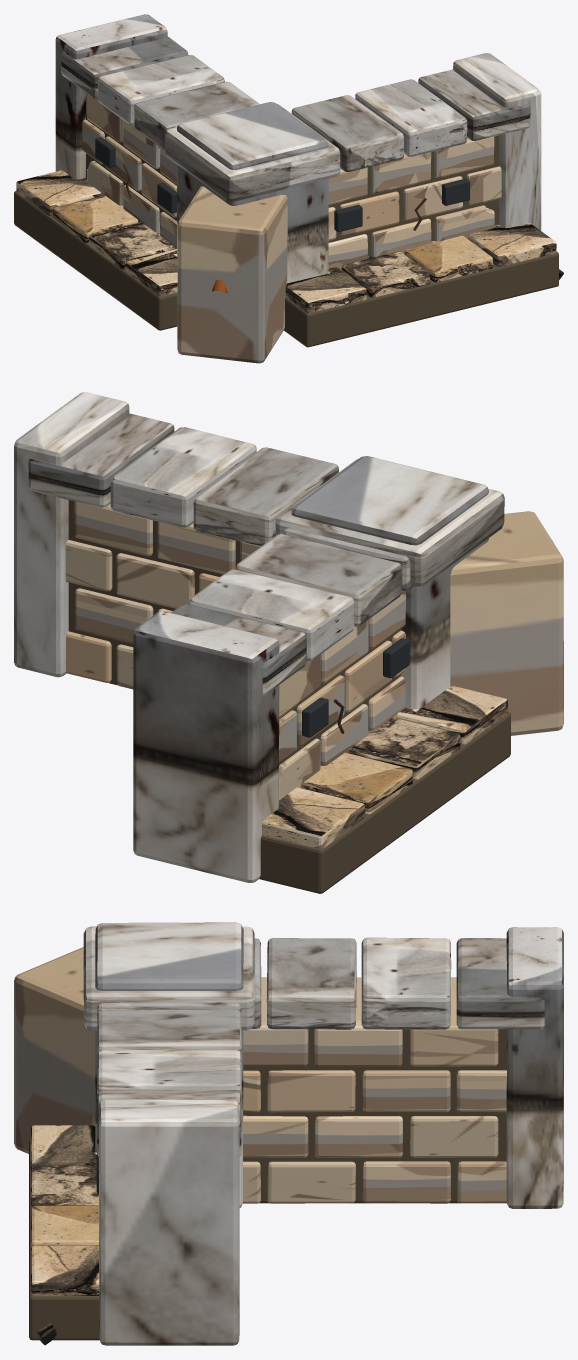
File: parapet_combat_corner_outer_LOD0.glb
3 views of the same model, one above another, from view 1: azimuth 30°, elevation 25°; view 2: azimuth 150°, elevation 25°; view 3: azimuth 270°, elevation 25° (orthographic). The views are drawn at different scales.
Visible parts, largest first — view 1: OuterSalientNose, CornerBondPier, XFiringStepCore, TerminalBondPier, TerminalBondPier.001, CornerCoping, YFiringStepCore, XCopingStone.002, XCopingStone.001, YCopingStone.002, YCopingStone.001, XCopingStone.003 (+32 smaller); view 2: TerminalBondPier.001, OuterSalientNose, CornerBondPier, TerminalBondPier, YFiringStepCore, XCopingStone.002, XCopingStone.001, YCopingStone.002, YCopingStone.001, XCopingStone.003, CornerCoping, YFiringStepPaver.003 (+25 smaller); view 3: TerminalBondPier, TerminalBondPier.001, OuterSalientNose, CornerBondPier, YCopingStone.002, YCopingStone.001, YWallCore, YCopingStone.003, XCopingStone.001, XCopingStone.002, CornerCoping, YCombatAshlar.001 (+21 smaller).
Part boxes in pixels (x1=…): OuterSalientNose: x1=177, y1=186, x2=287, y2=363; CornerBondPier: x1=177, y1=102, x2=328, y2=283; XFiringStepCore: x1=284, y1=251, x2=558, y2=347; TerminalBondPier: x1=453, y1=53, x2=541, y2=230; TerminalBondPier.001: x1=55, y1=14, x2=167, y2=179; CornerCoping: x1=165, y1=104, x2=340, y2=201; YFiringStepCore: x1=14, y1=191, x2=177, y2=330; XCopingStone.002: x1=355, y1=79, x2=467, y2=156; XCopingStone.001: x1=291, y1=95, x2=403, y2=171; YCopingStone.002: x1=97, y1=55, x2=224, y2=125; YCopingStone.001: x1=134, y1=81, x2=259, y2=150; XCopingStone.003: x1=418, y1=69, x2=530, y2=140; TerminalBondPier.001: x1=133, y1=611, x2=279, y2=882; OuterSalientNose: x1=450, y1=511, x2=563, y2=735; CornerBondPier: x1=291, y1=456, x2=488, y2=709; TerminalBondPier: x1=14, y1=392, x2=129, y2=677; YFiringStepCore: x1=259, y1=711, x2=510, y2=893; XCopingStone.002: x1=110, y1=427, x2=256, y2=527; XCopingStone.001: x1=193, y1=447, x2=338, y2=546; YCopingStone.002: x1=188, y1=569, x2=354, y2=661; YCopingStone.001: x1=236, y1=534, x2=401, y2=626; XCopingStone.003: x1=28, y1=413, x2=174, y2=507; CornerCoping: x1=276, y1=459, x2=504, y2=586; YFiringStepPaver.003: x1=262, y1=787, x2=364, y2=848; TerminalBondPier: x1=99, y1=1099, x2=239, y2=1345; TerminalBondPier.001: x1=506, y1=927, x2=563, y2=1208; OuterSalientNose: x1=14, y1=947, x2=95, y2=1153; CornerBondPier: x1=95, y1=922, x2=243, y2=1207; YCopingStone.002: x1=361, y1=937, x2=451, y2=1029; YCopingStone.001: x1=266, y1=938, x2=356, y2=1029; YWallCore: x1=243, y1=1029, x2=506, y2=1203; YCopingStone.003: x1=456, y1=938, x2=544, y2=1029; XCopingStone.001: x1=97, y1=1009, x2=241, y2=1067; XCopingStone.002: x1=97, y1=1050, x2=241, y2=1112; CornerCoping: x1=83, y1=926, x2=254, y2=1030; YCombatAshlar.001: x1=267, y1=1161, x2=355, y2=1203.
Bounding box in the file's own units: 2.9 × 1.39 × 2.9.
8 materials, 4 textured.
